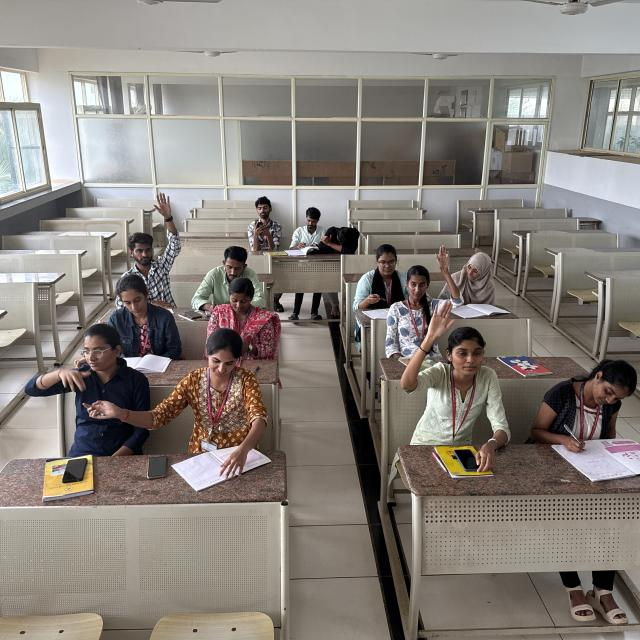Hand Rising: (404, 297, 496, 447), (132, 192, 186, 297), (402, 244, 460, 339)
Reading: (172, 326, 270, 471), (93, 275, 174, 367)
Sleeping: (317, 224, 362, 254)
Using Phone: (248, 196, 284, 252)
Writing: (539, 357, 637, 473), (192, 245, 268, 314), (438, 254, 506, 322), (354, 243, 416, 316), (290, 206, 326, 256)
